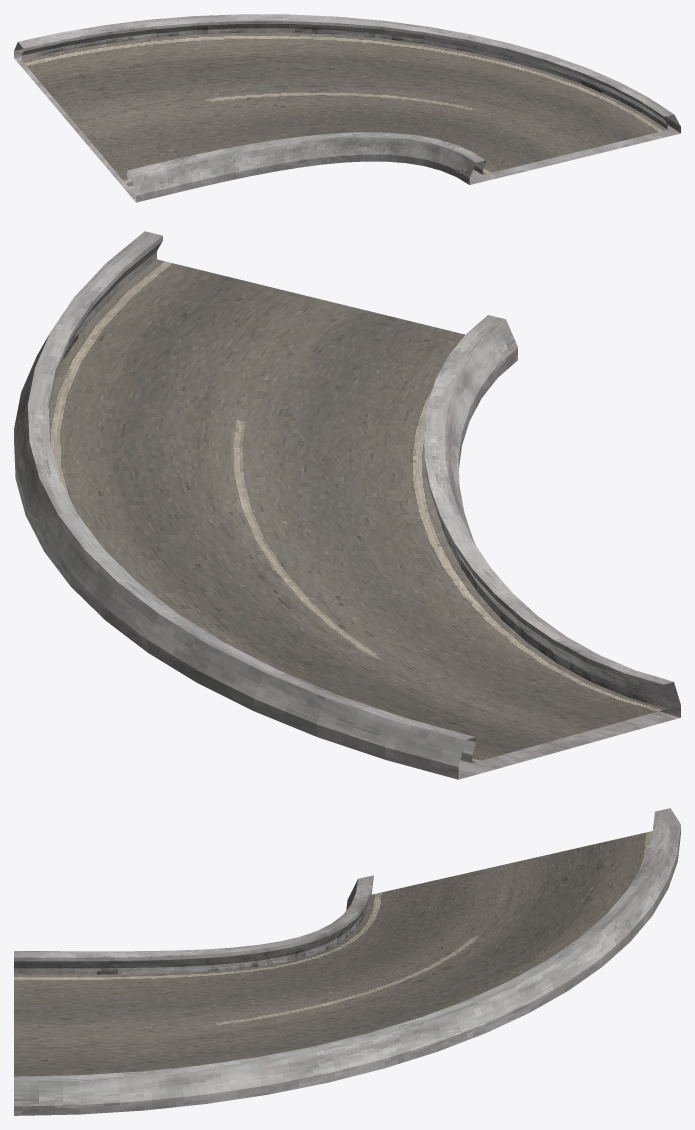
File: turn-left2x2.glb
The picture shows the model from 3 angles, top to bottom: view 1: azimuth 30°, elevation 25°; view 2: azimuth 150°, elevation 25°; view 3: azimuth 270°, elevation 25°; orthographic projection. The views are drawn at different scales.
Visible parts, largest first — view 1: road-Turn-Flat-HalfBankedLeft-Down1-Left-Size2; view 2: road-Turn-Flat-HalfBankedLeft-Down1-Left-Size2; view 3: road-Turn-Flat-HalfBankedLeft-Down1-Left-Size2.
Part boxes in pixels (box(x1,y1,x2,y2)): road-Turn-Flat-HalfBankedLeft-Down1-Left-Size2: box(14, 14, 680, 202); road-Turn-Flat-HalfBankedLeft-Down1-Left-Size2: box(14, 231, 680, 779); road-Turn-Flat-HalfBankedLeft-Down1-Left-Size2: box(14, 808, 680, 1115).
Bounding box in the file's own units: 2 × 0.3438 × 2.
Materials: 2 (2 with a texture image).
